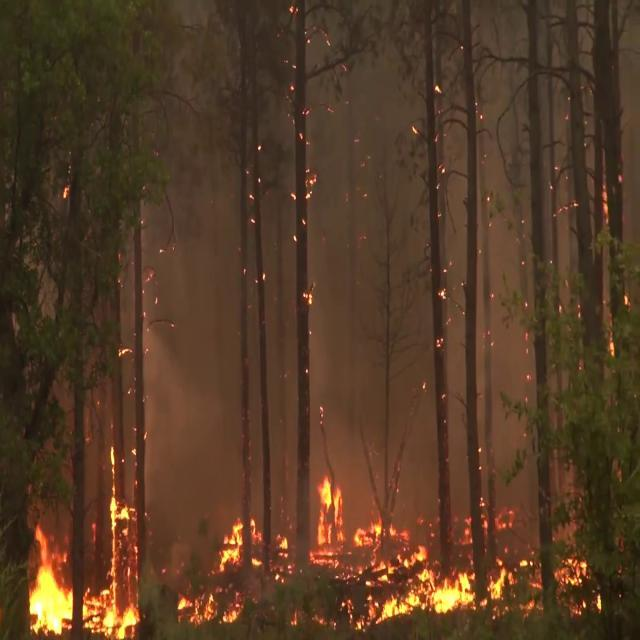Fire: (306, 468, 474, 626), (22, 448, 140, 638), (177, 509, 252, 627), (552, 556, 600, 620)
Smoke: (82, 5, 604, 514)
